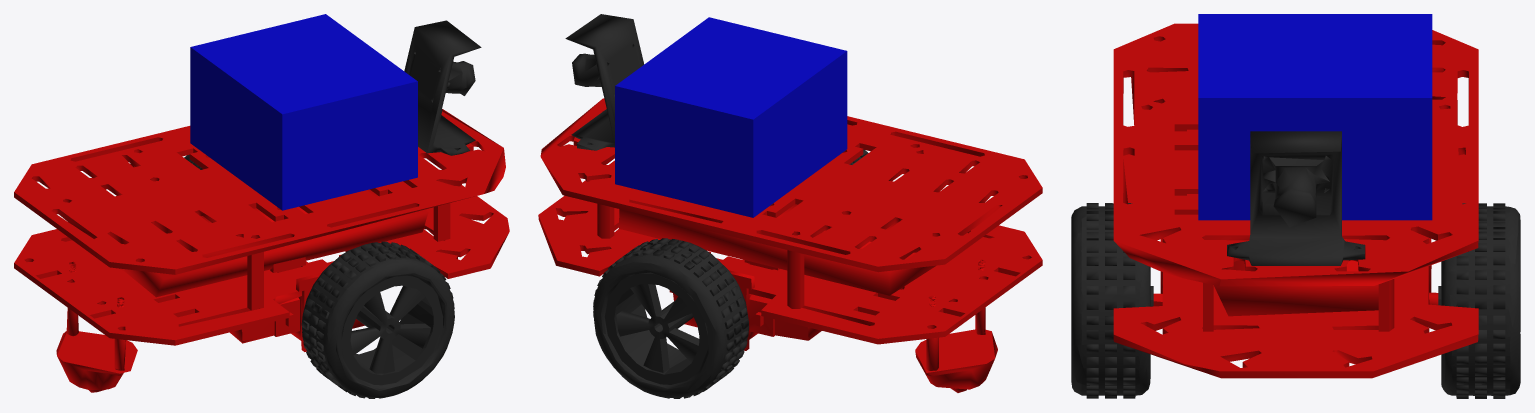
The model's file is duckiebot.obj.
3 views of the same model, side by side, from view 1: azimuth 30°, elevation 25°; view 2: azimuth 150°, elevation 25°; view 3: azimuth 270°, elevation 25° (orthographic). The views are drawn at different scales.
Visible parts, largest first — view 1: chassis_package://duckiebot_description/meshes/duckiebotFrame.d, Cube_Cube.001, right_wheel_package://duckiebot_description/meshes/duckiebot_ri, camera_package://duckiebot_description/meshes/duckiebot_camera.; view 2: chassis_package://duckiebot_description/meshes/duckiebotFrame.d, Cube_Cube.001, left_wheel_package://duckiebot_description/meshes/duckiebot_lef, camera_package://duckiebot_description/meshes/duckiebot_camera.; view 3: chassis_package://duckiebot_description/meshes/duckiebotFrame.d, Cube_Cube.001, camera_package://duckiebot_description/meshes/duckiebot_camera., left_wheel_package://duckiebot_description/meshes/duckiebot_lef, right_wheel_package://duckiebot_description/meshes/duckiebot_ri.
Part boxes in pixels (x1,y1,x2,y2): chassis_package://duckiebot_description/meshes/duckiebotFrame.d: [14, 109, 509, 392]; Cube_Cube.001: [190, 14, 417, 210]; right_wheel_package://duckiebot_description/meshes/duckiebot_ri: [301, 241, 454, 398]; camera_package://duckiebot_description/meshes/duckiebot_camera.: [404, 20, 481, 155]; chassis_package://duckiebot_description/meshes/duckiebotFrame.d: [538, 98, 1042, 392]; Cube_Cube.001: [615, 17, 847, 217]; left_wheel_package://duckiebot_description/meshes/duckiebot_lef: [593, 238, 749, 398]; camera_package://duckiebot_description/meshes/duckiebot_camera.: [565, 14, 644, 150]; chassis_package://duckiebot_description/meshes/duckiebotFrame.d: [1113, 23, 1478, 378]; Cube_Cube.001: [1198, 14, 1432, 220]; camera_package://duckiebot_description/meshes/duckiebot_camera.: [1227, 131, 1365, 265]; left_wheel_package://duckiebot_description/meshes/duckiebot_lef: [1438, 203, 1520, 398]; right_wheel_package://duckiebot_description/meshes/duckiebot_ri: [1071, 203, 1153, 398].
Bounding box in the file's own units: 0.1998 × 0.123 × 0.1472.
